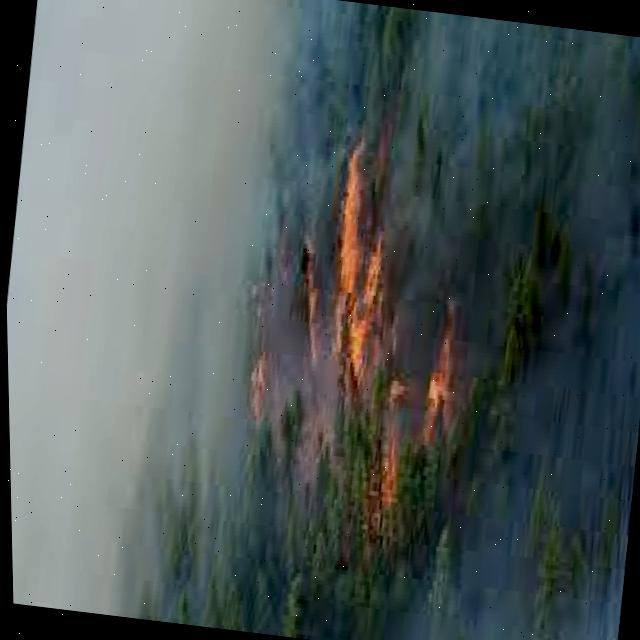smoke: (5, 0, 640, 640)
